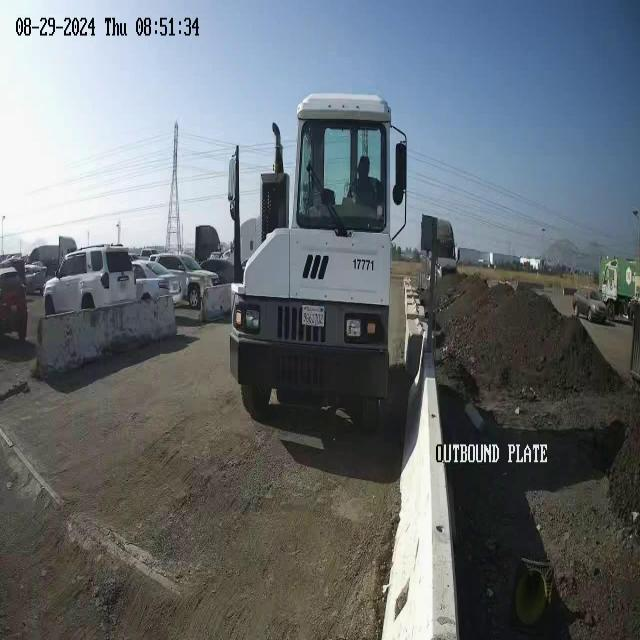BOBTAIL: (228, 92, 410, 431)
